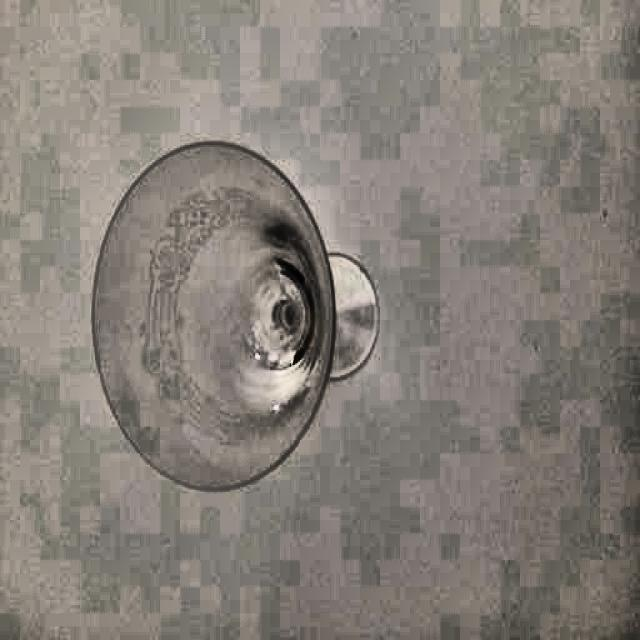glass: (90, 141, 374, 488)
